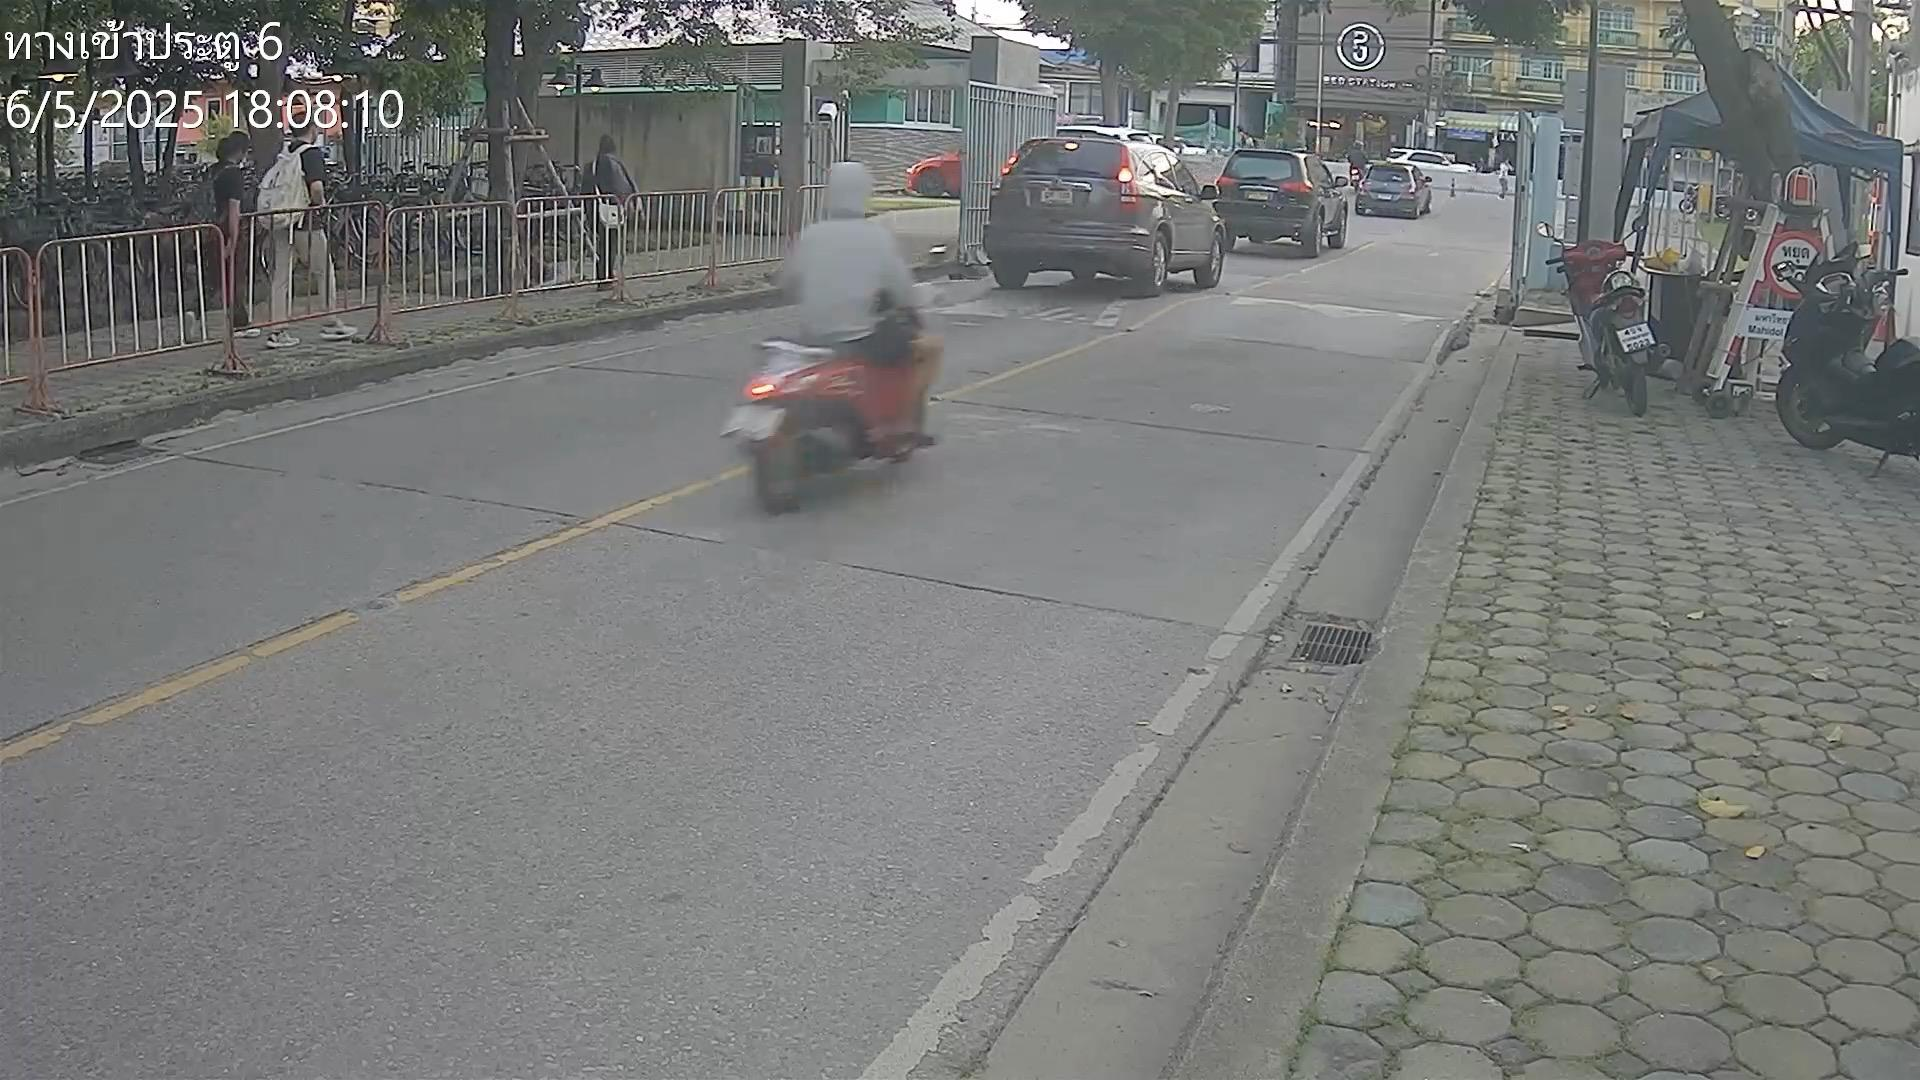With-Helmet: (824, 160, 876, 219)
